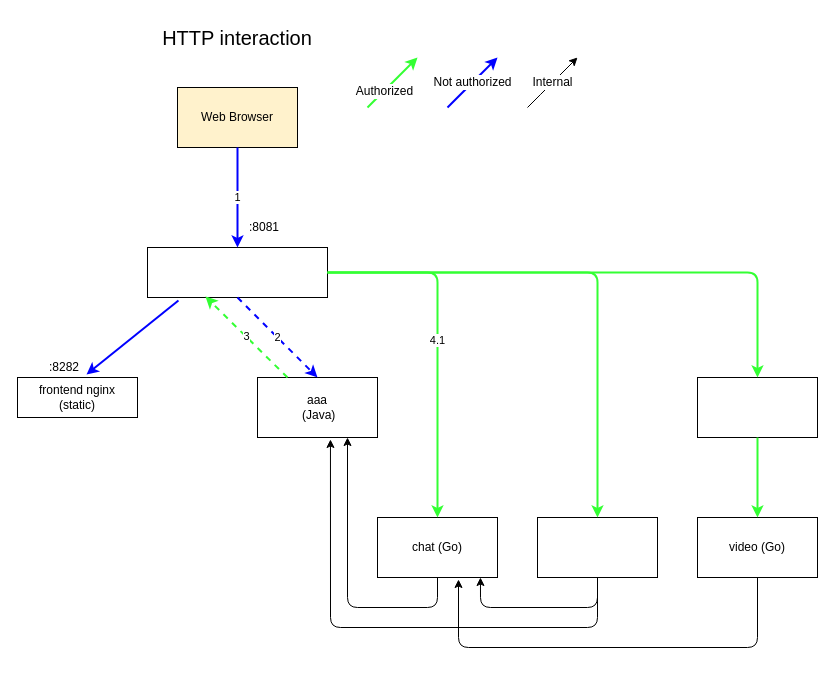
The diagram is 835 pixels wide and 673 high, and some of its shapes have lost their labels. Here are the shapes that lost their labels. From the top down, the centre of each, then its label:
At point 237,272: "traefik".
At point 757,407: "video-proxy (Go)".
At point 597,547: "storage(Go)".
